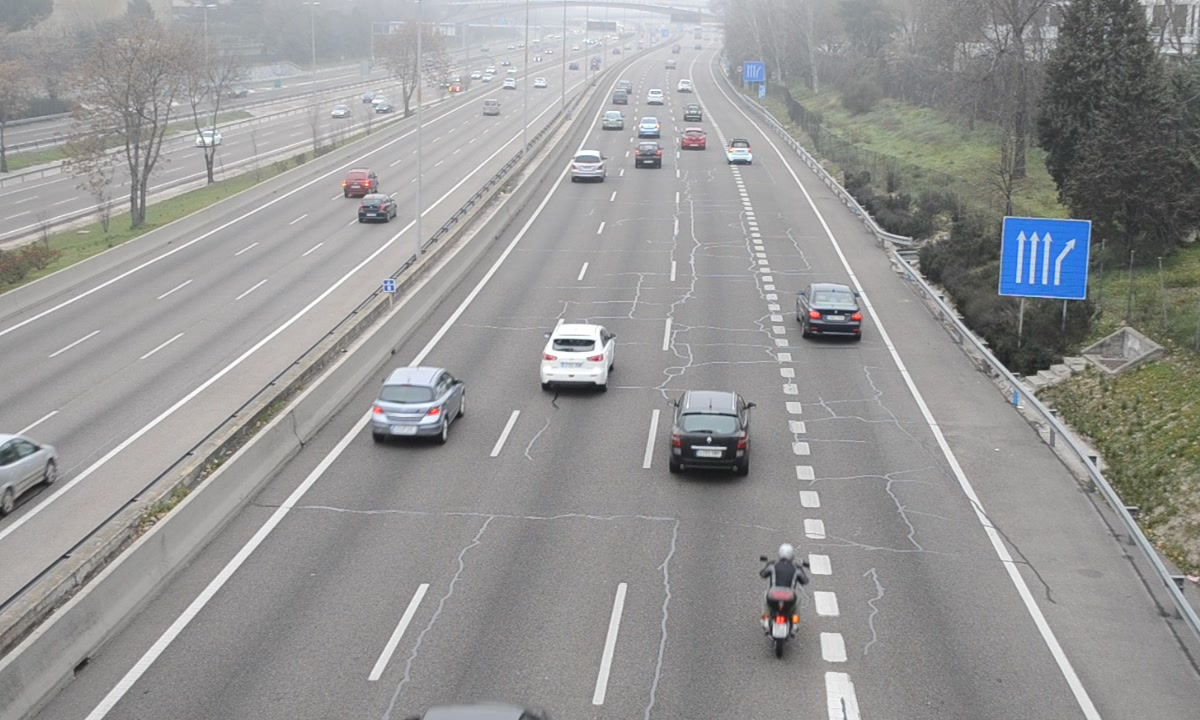car: (668, 392, 750, 481), (369, 368, 466, 439), (540, 323, 619, 390), (798, 282, 863, 339), (570, 149, 608, 184), (725, 136, 753, 166), (635, 140, 663, 168), (681, 126, 709, 152), (637, 116, 662, 140)
motorcycle: (757, 544, 815, 655)
